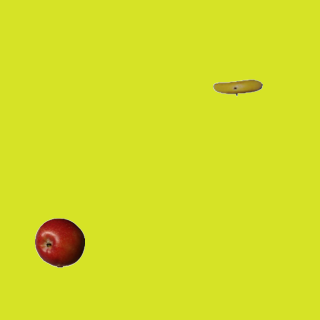Apple Braeburn: (34, 217, 84, 267)
Banana: (212, 62, 262, 112)
